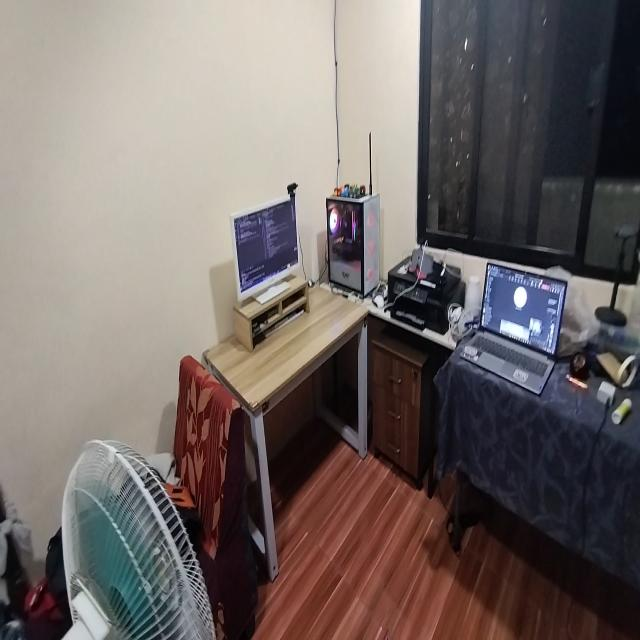table: (203, 274, 377, 578)
